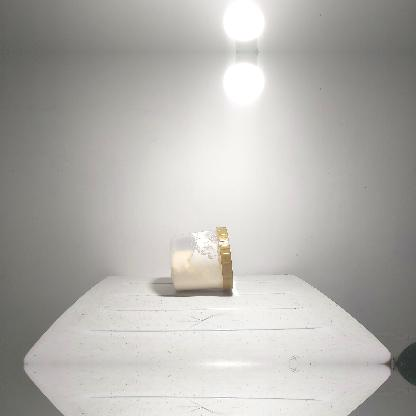Lady-s-Choice: (168, 224, 234, 292)
